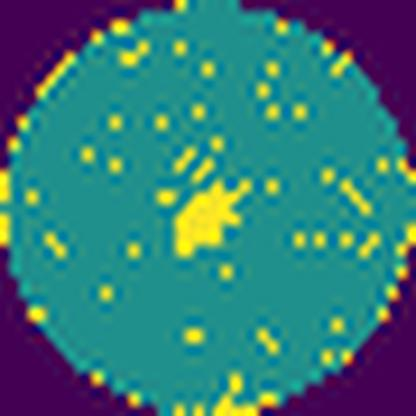Center: (173, 177, 252, 261)
